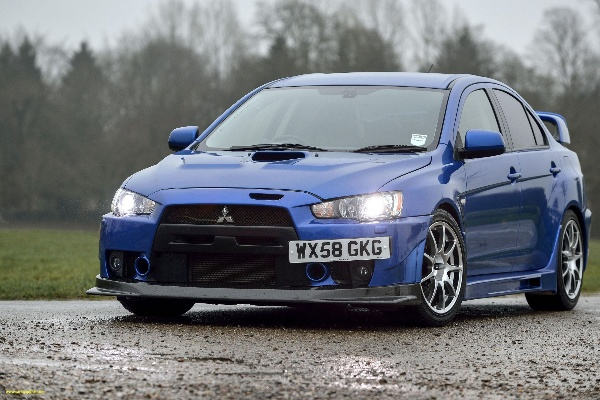licence: (286, 235, 392, 266)
